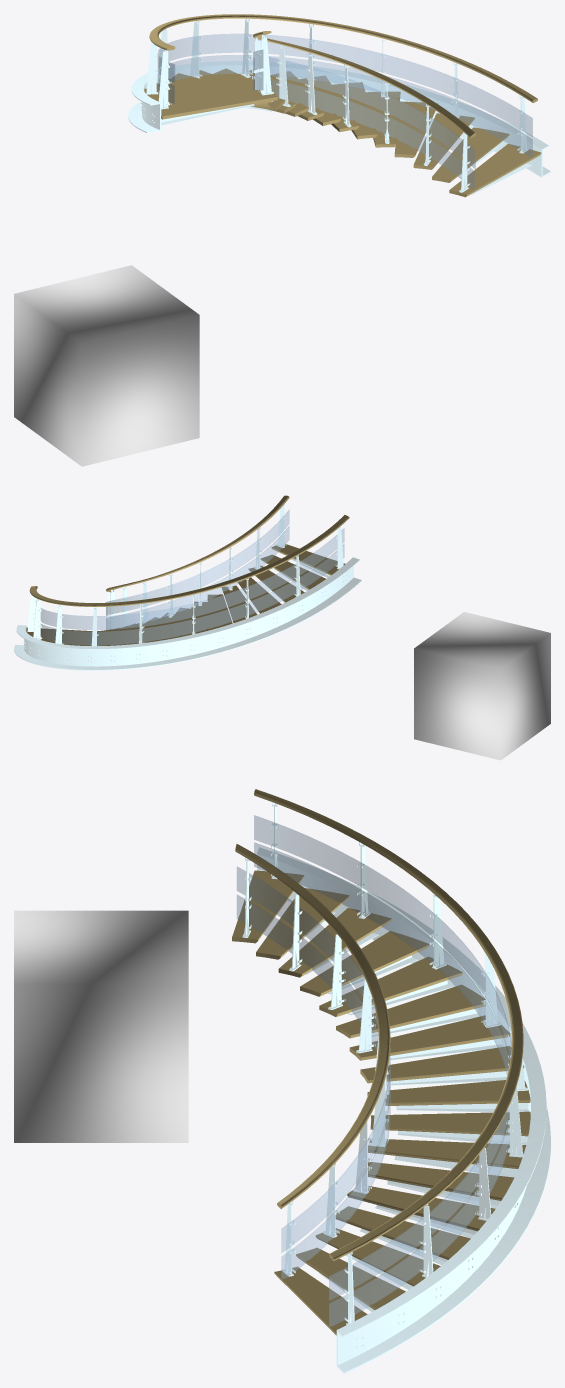
File: dc_stair.gltf
The picture shows the model from 3 angles, top to bottom: view 1: azimuth 30°, elevation 25°; view 2: azimuth 150°, elevation 25°; view 3: azimuth 270°, elevation 25°; orthographic projection. The views are drawn at different scales.
Visible parts, largest first — view 1: Node77, Node76, Node56, Node36, Node57, Node55, Node35, Node54; view 2: Node77, Node57, Node56, Node76, Node36, Node55, Node35; view 3: Node76, Node77, Node56, Node57, Node36, Node55, Node35, Node20, Node22, Node18, Node68, Node16 (+9 smaller).
Boxes of the visible parts, x1,y1,x2,y2 form: Node77: (14, 265, 199, 466); Node76: (144, 68, 541, 197); Node56: (158, 34, 532, 157); Node36: (253, 49, 475, 190); Node57: (128, 61, 550, 177); Node55: (149, 14, 537, 102); Node35: (253, 31, 475, 137); Node54: (258, 35, 273, 95); Node77: (414, 612, 550, 760); Node57: (14, 557, 361, 670); Node56: (37, 528, 344, 645); Node76: (26, 544, 345, 645); Node36: (106, 510, 289, 629); Node55: (29, 515, 349, 606); Node35: (106, 495, 289, 592); Node76: (232, 870, 530, 1335); Node77: (14, 910, 188, 1142); Node56: (254, 815, 511, 1327); Node57: (257, 847, 550, 1373); Node36: (237, 866, 390, 1278); Node55: (254, 789, 523, 1260); Node35: (235, 844, 390, 1209); Node20: (390, 1071, 508, 1085); Node22: (389, 1038, 503, 1060); Node18: (396, 1103, 528, 1112); Node68: (481, 954, 500, 1027); Node16: (397, 1131, 527, 1144).
Size of the model in its own units: 10.15 by 4.98 by 6.15.
